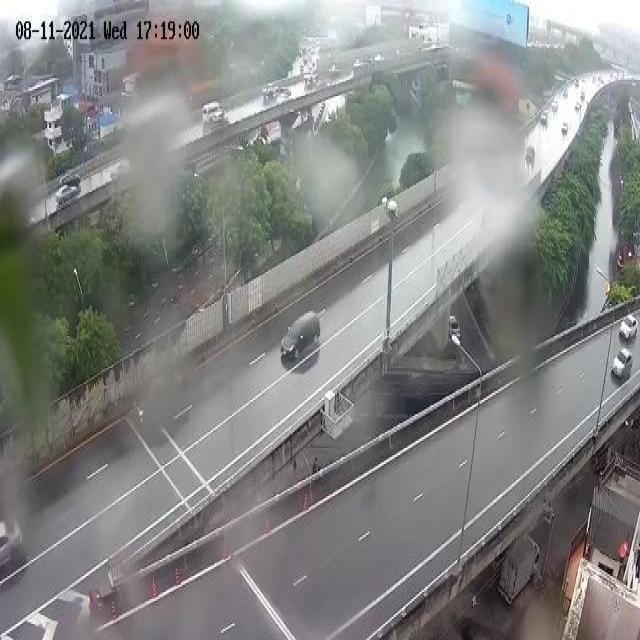Car: (272, 302, 325, 368), (0, 509, 27, 577), (194, 98, 226, 132), (616, 303, 638, 348), (609, 347, 632, 389), (57, 175, 79, 207), (518, 138, 538, 168), (550, 91, 562, 116), (559, 118, 570, 141), (538, 107, 548, 128), (572, 99, 581, 118)
